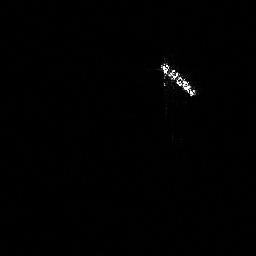ship: (159, 57, 197, 97)
